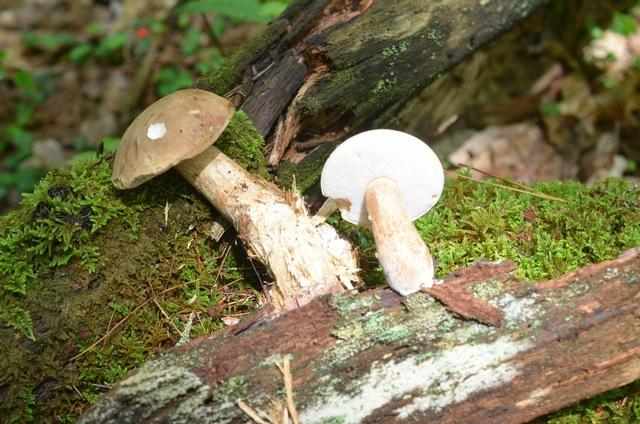poisonous_mushroom: (97, 81, 327, 293), (318, 127, 445, 296)
